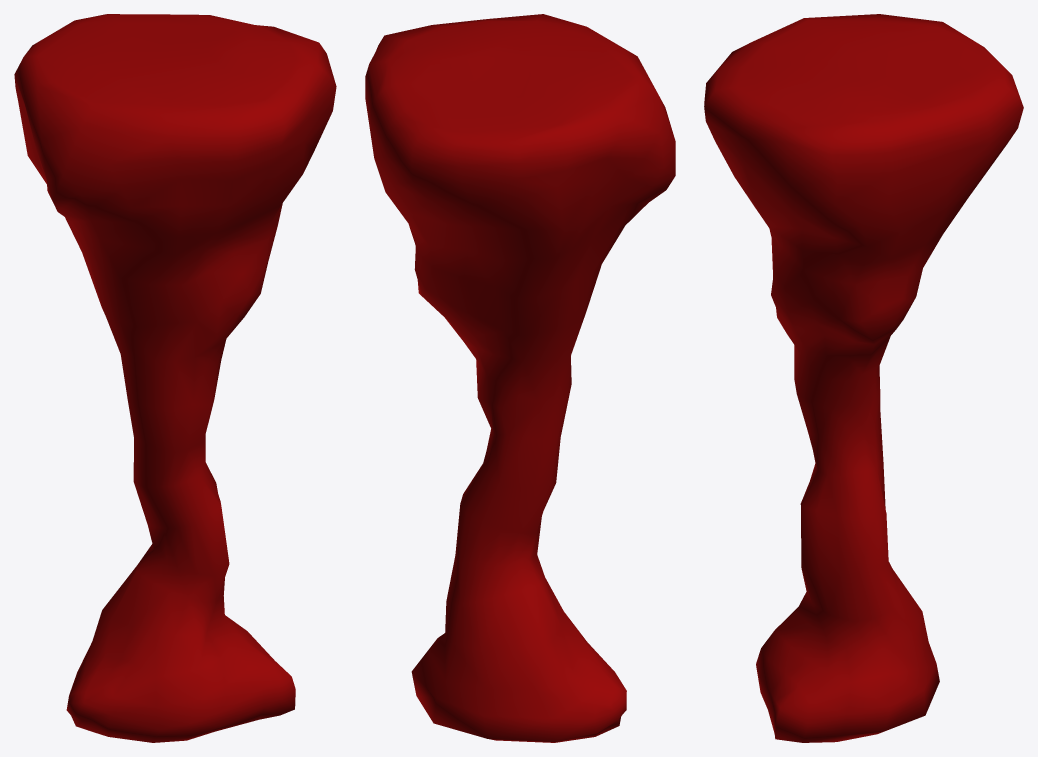
File: SM_CliffBig21.gltf
3 renders of one model, left to right at view 1: azimuth 30°, elevation 25°; view 2: azimuth 150°, elevation 25°; view 3: azimuth 270°, elevation 25°, orthographic.
Visible parts, largest first — view 1: SM_CliffBig21; view 2: SM_CliffBig21; view 3: SM_CliffBig21.
Part boxes in pixels (left/top/right/bottom): SM_CliffBig21: left=14, top=14, right=336, bottom=742; SM_CliffBig21: left=365, top=14, right=675, bottom=742; SM_CliffBig21: left=704, top=14, right=1023, bottom=742.
Size of the model in its own units: 3.96 by 8.63 by 3.87.
